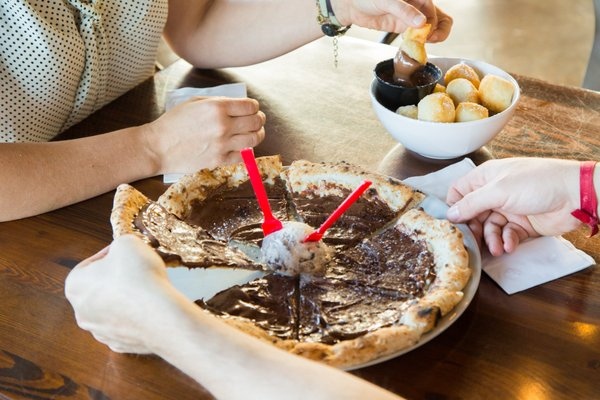salad: (241, 147, 283, 240)
sushi: (369, 54, 521, 158)
